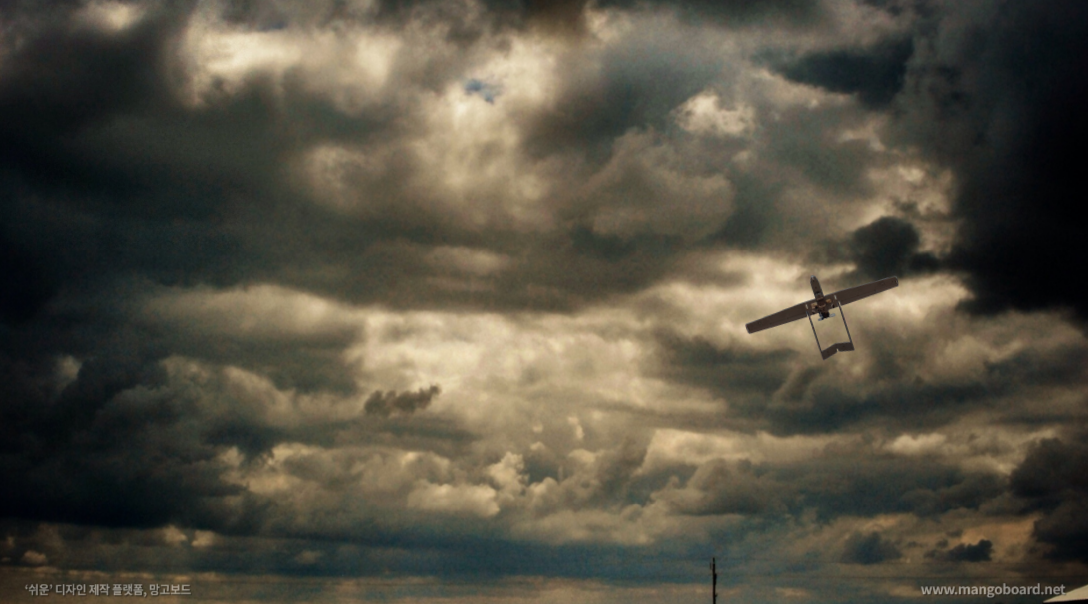military drone: (745, 275, 898, 359)
